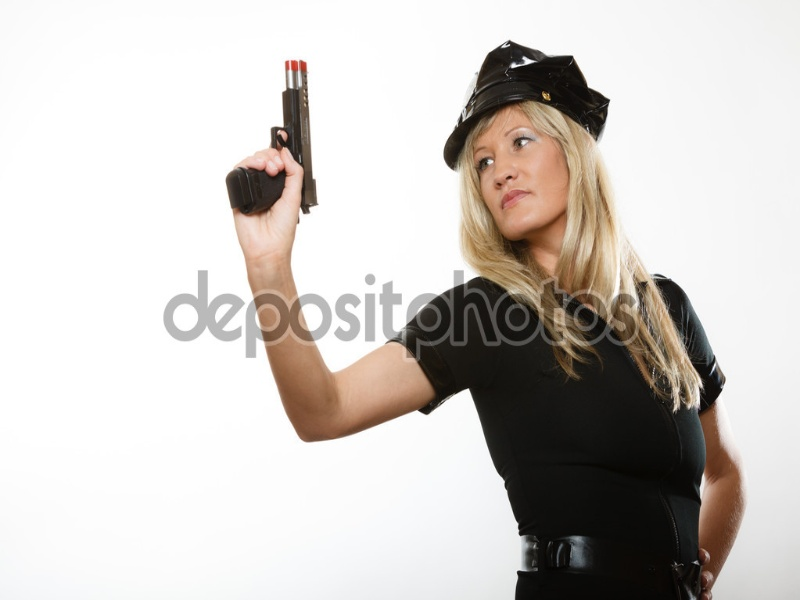gun: (224, 49, 319, 228)
